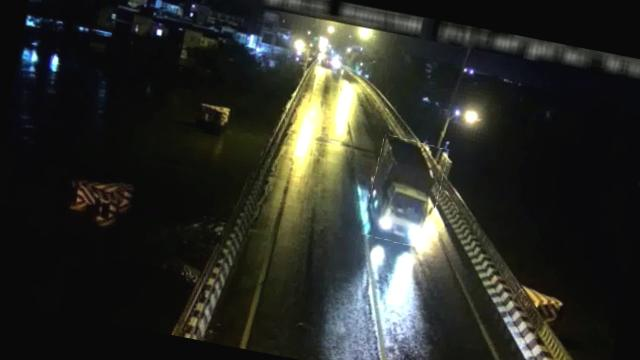Truck: (362, 134, 449, 248)
